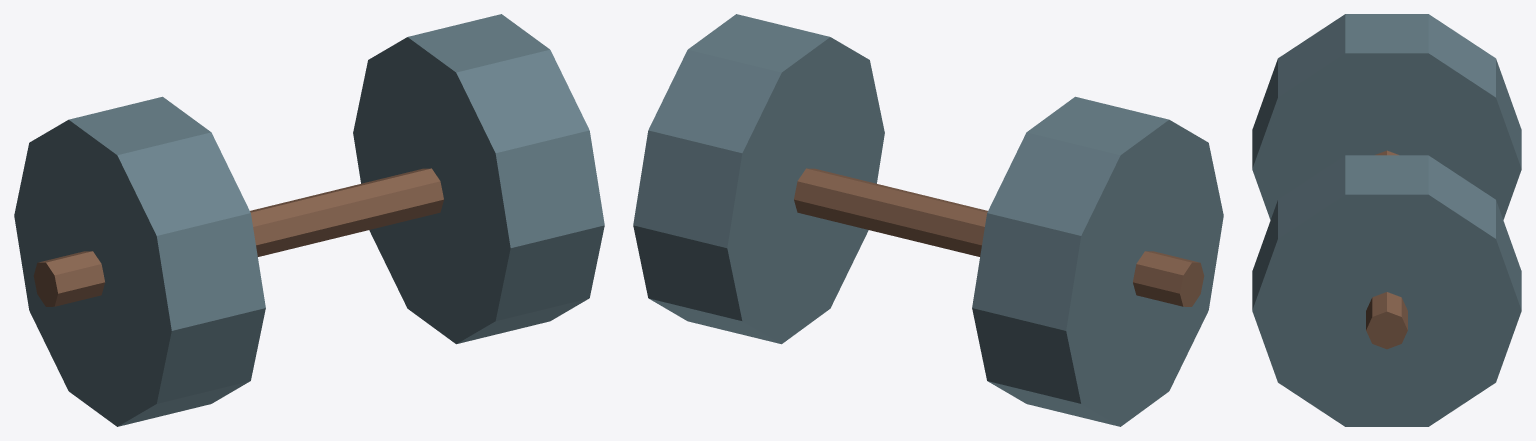
File: stone_weight.glb
The picture shows the model from 3 angles, left to right: view 1: azimuth 30°, elevation 25°; view 2: azimuth 150°, elevation 25°; view 3: azimuth 270°, elevation 25°; orthographic projection. The views are drawn at different scales.
Parts seen in each view (by area): view 1: stone_weight_Stone, stone_weight_Floor; view 2: stone_weight_Stone, stone_weight_Floor; view 3: stone_weight_Stone, stone_weight_Floor.
Boxes of the visible parts, x1,y1,x2,y2 form: stone_weight_Stone: (14, 14, 604, 426); stone_weight_Floor: (33, 168, 443, 306); stone_weight_Stone: (633, 14, 1223, 426); stone_weight_Floor: (794, 168, 1204, 306); stone_weight_Stone: (1252, 14, 1521, 426); stone_weight_Floor: (1366, 150, 1407, 349).
Size of the model in its own units: 1.12 by 0.5516 by 0.58.
